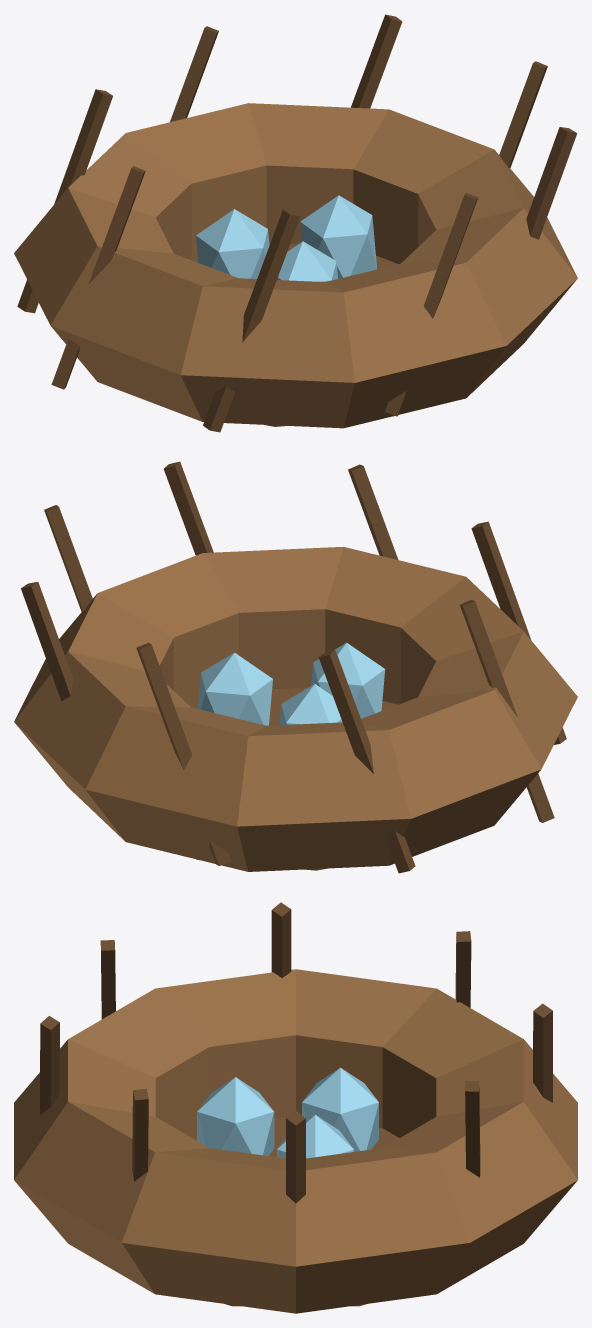
File: ninho.glb
3 views of the same model, one above another, from view 1: azimuth 30°, elevation 25°; view 2: azimuth 150°, elevation 25°; view 3: azimuth 270°, elevation 25° (orthographic). The views are drawn at different scales.
Visible parts, largest first — view 1: ninho, ovo_0, ovo_1, graveto_5, graveto_3, graveto_4, graveto_7, graveto_6, graveto_1, ovo_2, graveto_0, graveto_2; view 2: ninho, ovo_0, graveto_3, ovo_2, graveto_4, graveto_2, graveto_1, graveto_5, ovo_1, graveto_7, graveto_0, graveto_6 (+1 smaller); view 3: ninho, ovo_2, ovo_1, graveto_2, graveto_6, graveto_0, ovo_0, graveto_4, graveto_7, graveto_1, graveto_3, graveto_5 (+1 smaller).
Boxes of the visible parts, left/top/right/bottom form: ninho: left=14, top=103, right=577, bottom=428; ovo_0: left=300, top=195, right=376, bottom=278; ovo_1: left=196, top=209, right=269, bottom=278; graveto_5: left=203, top=209, right=300, bottom=432; graveto_3: left=17, top=89, right=112, bottom=313; graveto_4: left=51, top=166, right=145, bottom=389; graveto_7: left=526, top=127, right=576, bottom=239; graveto_6: left=385, top=193, right=478, bottom=416; graveto_1: left=351, top=14, right=402, bottom=108; ovo_2: left=277, top=241, right=337, bottom=281; graveto_0: left=499, top=61, right=547, bottom=168; graveto_2: left=170, top=26, right=218, bottom=121; ninho: left=14, top=546, right=577, bottom=871; ovo_0: left=197, top=652, right=272, bottom=725; graveto_3: left=318, top=650, right=415, bottom=873; ovo_2: left=311, top=642, right=385, bottom=718; graveto_4: left=460, top=599, right=554, bottom=822; graveto_2: left=136, top=643, right=231, bottom=865; graveto_1: left=21, top=582, right=73, bottom=701; graveto_5: left=471, top=521, right=566, bottom=744; ovo_1: left=279, top=684, right=342, bottom=725; graveto_7: left=163, top=461, right=213, bottom=555; graveto_0: left=44, top=505, right=92, bottom=611; graveto_6: left=348, top=464, right=398, bottom=559; ninho: left=14, top=969, right=577, bottom=1313; ovo_2: left=197, top=1077, right=274, bottom=1155; ovo_1: left=302, top=1067, right=378, bottom=1151; graveto_2: left=533, top=1003, right=552, bottom=1102; graveto_6: left=40, top=1016, right=59, bottom=1114; graveto_0: left=286, top=1111, right=305, bottom=1203; ovo_0: left=277, top=1115, right=353, bottom=1158; graveto_4: left=271, top=902, right=291, bottom=977; graveto_7: left=132, top=1088, right=148, bottom=1181; graveto_1: left=465, top=1081, right=480, bottom=1177; graveto_3: left=455, top=931, right=471, bottom=1007; graveto_5: left=100, top=940, right=115, bottom=1019.
Size of the model in its own units: 0.7384 by 0.3128 by 0.6848.
